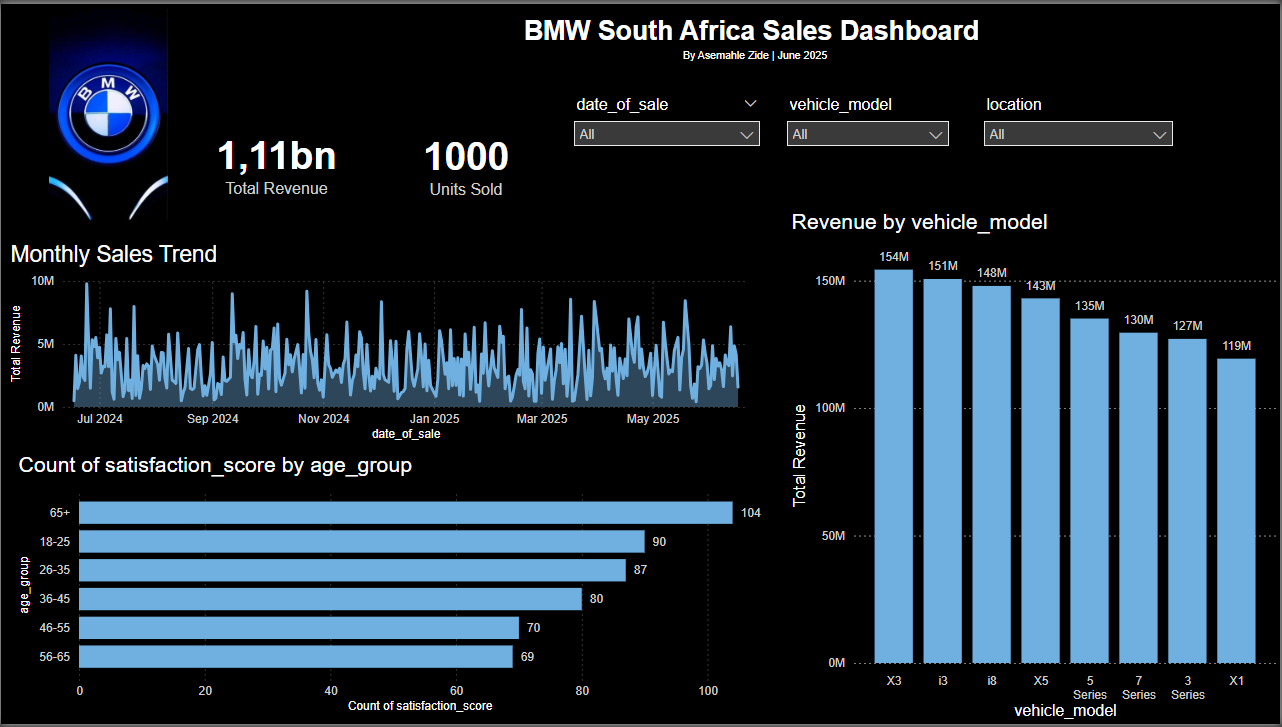

What the dashboard file says about the page in this screenshot:
{"tool":"powerbi","page":{"name":" Sales Overview","canvas":[1280,720],"ordinal":0},"visuals":[{"type":"card","fields":{"Values":["Sales.Total Revenue"]},"box":[184,111,183,95],"z":0},{"type":"card","fields":{"Values":["Sales.Units Sold"]},"box":[367,112,196,94],"z":1000},{"type":"areaChart","title":"Monthly Sales Trend","fields":{"Category":["Sales.date_of_sale Hierarchy.date_of_sale"],"Y":["Sales.Total Revenue"]},"box":[5,237,764,205],"z":2000},{"type":"clusteredColumnChart","title":"Revenue by vehicle_model","fields":{"Category":["Sales.vehicle_model"],"Y":["Sales.Total Revenue"]},"box":[786,206,494,514],"z":3000},{"type":"textbox","box":[229,7,1051,67],"z":4000},{"type":"clusteredBarChart","fields":{"Category":["Customers.age_group"],"Y":["CountNonNull(Customers.satisfaction_score)"]},"box":[13,449,763,265],"z":5000},{"type":"image","box":[0,0,215,221],"z":6000},{"type":"slicer","fields":{"Values":["Dealers.location"]},"box":[973,87,209,72],"z":7000},{"type":"slicer","fields":{"Values":["Sales.date_of_sale"]},"box":[563,87,206,72],"z":8000},{"type":"slicer","fields":{"Values":["Sales.vehicle_model"]},"box":[776,87,182,72],"z":9000}]}

Visuals, with their boxes in screenshot pixels (x1, y1, x2, y2), scaled from the page's 1280x720 canvas onto the 1282x727 screenshot:
card - Sales.Total Revenue: x1=184, y1=112, x2=368, y2=208
card - Sales.Units Sold: x1=368, y1=113, x2=564, y2=208
"Monthly Sales Trend" areaChart: x1=5, y1=239, x2=770, y2=446
"Revenue by vehicle_model" clusteredColumnChart: x1=787, y1=208, x2=1281, y2=726
textbox: x1=229, y1=7, x2=1281, y2=75
clusteredBarChart - Customers.age_group x CountNonNull(Customers.satisfaction_score): x1=13, y1=453, x2=777, y2=721
image: x1=0, y1=0, x2=215, y2=223
slicer - Dealers.location: x1=975, y1=88, x2=1184, y2=161
slicer - Sales.date_of_sale: x1=564, y1=88, x2=770, y2=161
slicer - Sales.vehicle_model: x1=777, y1=88, x2=959, y2=161
